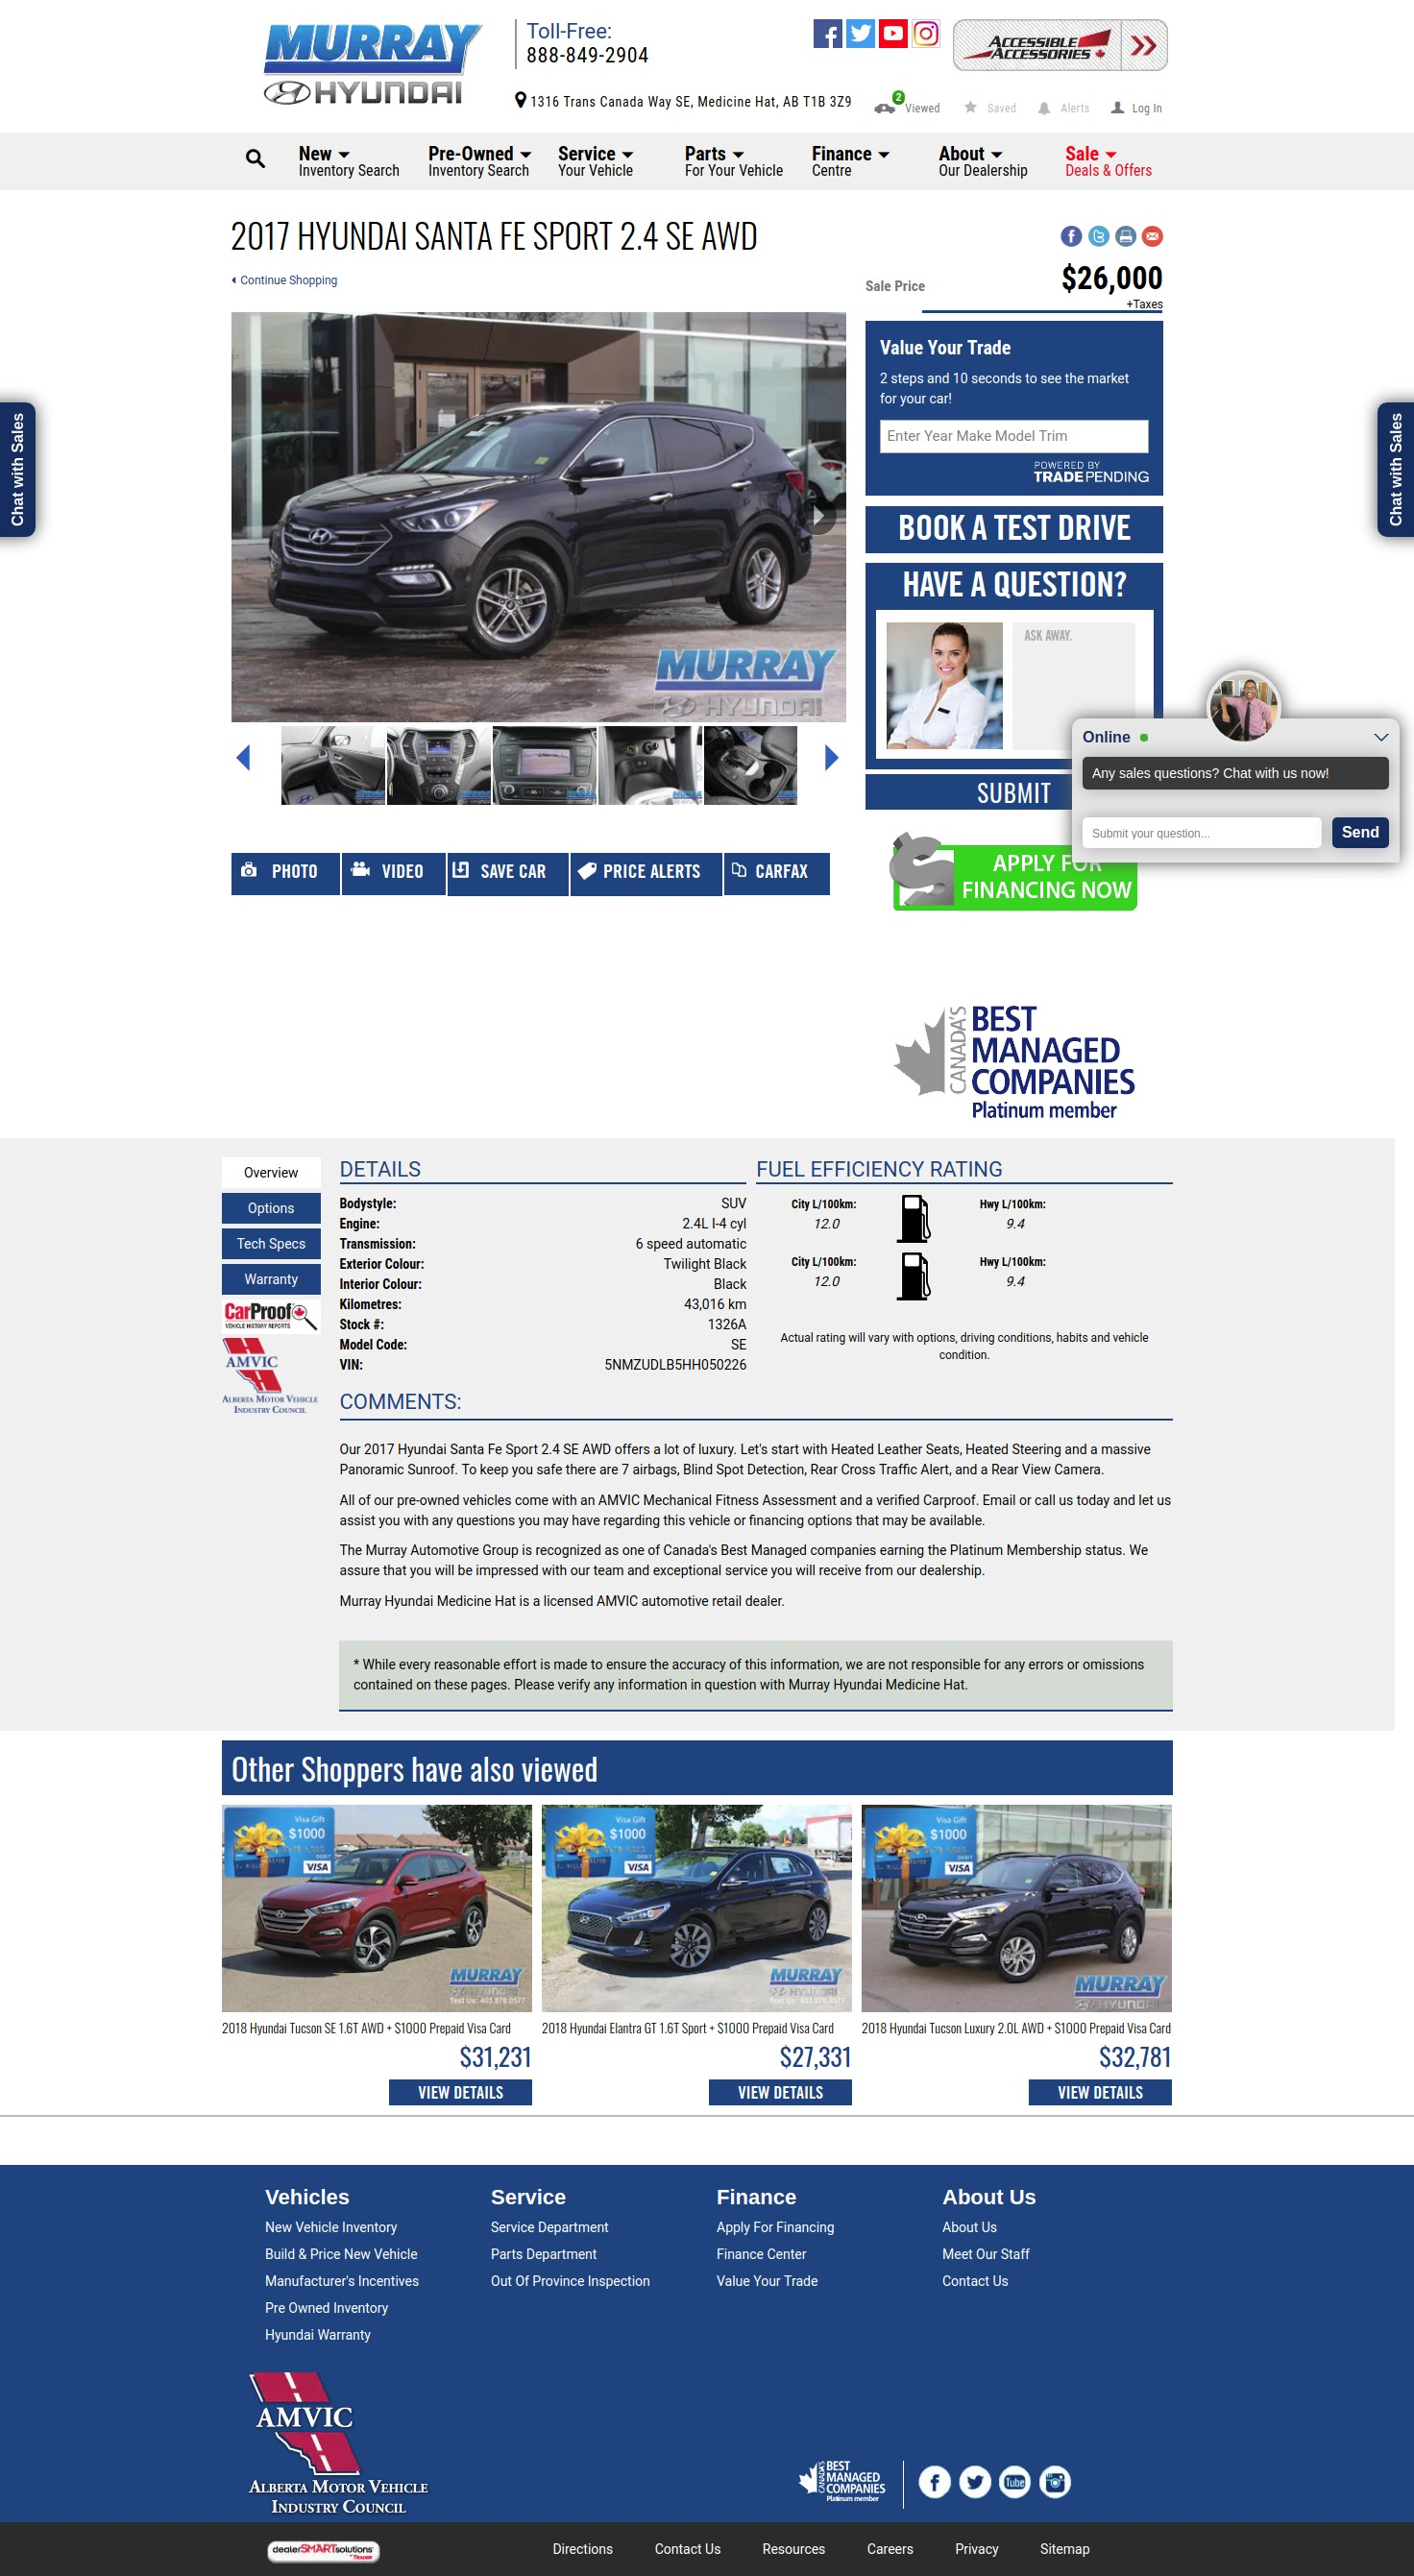car: (824, 743, 841, 773)
